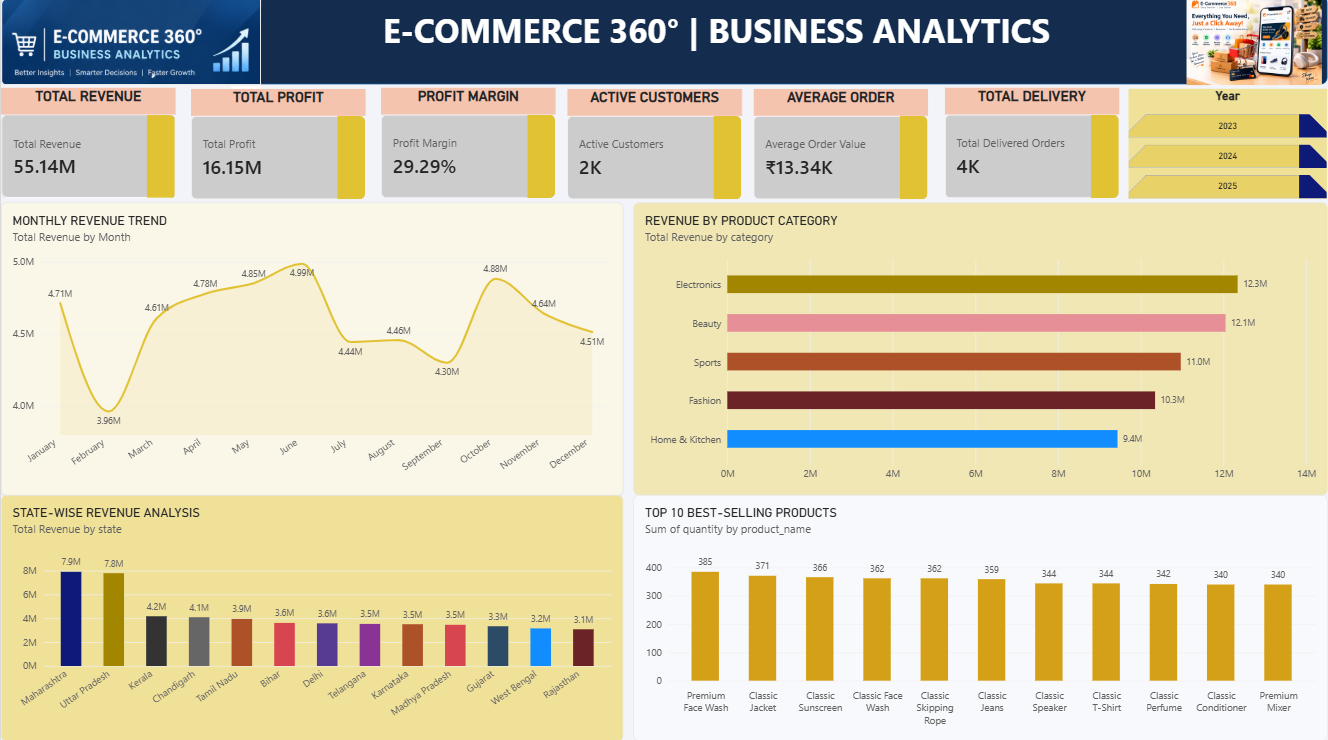

The dashboard page shown, as its layout file describes it:
{"tool":"powerbi","page":{"name":"EXECUTIVE SALES OVERVIEW","canvas":[1920,1080],"ordinal":0},"visuals":[{"type":"shape","box":[0,0,1920.4,129.6],"z":0},{"type":"textbox","box":[528.7,18.2,1014.9,127.6],"z":1000},{"type":"image","box":[0,0,377.2,130.5],"z":2000},{"type":"cardVisual","title":"TOTAL REVENUE","fields":{"Data":["KIP_Measures.Total Revenue"]},"box":[0,134.6,252.8,161.1],"z":3000},{"type":"cardVisual","title":"TOTAL PROFIT","fields":{"Data":["KIP_Measures.Total Profit"]},"box":[275.2,136.6,252.8,161.1],"z":4000},{"type":"cardVisual","title":"PROFIT MARGIN","fields":{"Data":["KIP_Measures.Profit Margin"]},"box":[550.4,134.6,252.8,161.1],"z":5000},{"type":"cardVisual","title":"ACTIVE CUSTOMERS","fields":{"Data":["KIP_Measures.Active Customers"]},"box":[819.5,136.6,252.8,161.1],"z":6000},{"type":"cardVisual","title":"AVERAGE ORDER","fields":{"Data":["KIP_Measures.Average Order Value"]},"box":[1088.6,136.6,252.8,161.1],"z":7000},{"type":"cardVisual","title":"TOTAL DELIVERY","fields":{"Data":["KIP_Measures.Total Delivered Orders"]},"box":[1365.9,134.6,252.8,161.1],"z":8000},{"type":"image","box":[1708.4,0,212,130.5],"z":9000},{"type":"lineChart","title":"MONTHLY REVENUE TREND","fields":{"Category":["Orders.order_date.Variation.Date Hierarchy.Month"],"Y":["KIP_Measures.Total Revenue"]},"box":[0,299.7,901.1,424],"z":10000},{"type":"advancedSlicerVisual","fields":{"Values":["Orders.Year"]},"box":[1633,136.6,287.5,159],"z":11000},{"type":"clusteredBarChart","title":"REVENUE BY PRODUCT CATEGORY","fields":{"Category":["Products.category"],"Y":["KIP_Measures.Total Revenue"]},"box":[915.4,299.7,1005.1,424],"z":12000},{"type":"clusteredColumnChart","title":"STATE-WISE REVENUE ANALYSIS","fields":{"Category":["Customers.state"],"Y":["KIP_Measures.Total Revenue"]},"box":[0,723.7,901.1,356.8],"z":13000},{"type":"columnChart","title":"TOP 10 BEST-SELLING PRODUCTS","fields":{"Category":["Products.product_name"],"Y":["Sum(Order_Details.quantity)"]},"box":[915,724,1005,356],"z":14000}]}

Visuals, with their boxes in screenshot pixels (x1, y1, x2, y2), scaled from the page's 1920x1080 canvas onto the 1328x740 screenshot:
shape: Rect(0, 0, 1327, 89)
textbox: Rect(366, 12, 1068, 100)
image: Rect(0, 0, 261, 89)
"TOTAL REVENUE" cardVisual: Rect(0, 92, 175, 203)
"TOTAL PROFIT" cardVisual: Rect(190, 94, 365, 204)
"PROFIT MARGIN" cardVisual: Rect(381, 92, 556, 203)
"ACTIVE CUSTOMERS" cardVisual: Rect(567, 94, 742, 204)
"AVERAGE ORDER" cardVisual: Rect(753, 94, 928, 204)
"TOTAL DELIVERY" cardVisual: Rect(945, 92, 1120, 203)
image: Rect(1182, 0, 1327, 89)
"MONTHLY REVENUE TREND" lineChart: Rect(0, 205, 623, 496)
advancedSlicerVisual - Orders.Year: Rect(1129, 94, 1327, 203)
"REVENUE BY PRODUCT CATEGORY" clusteredBarChart: Rect(633, 205, 1327, 496)
"STATE-WISE REVENUE ANALYSIS" clusteredColumnChart: Rect(0, 496, 623, 739)
"TOP 10 BEST-SELLING PRODUCTS" columnChart: Rect(633, 496, 1327, 739)
